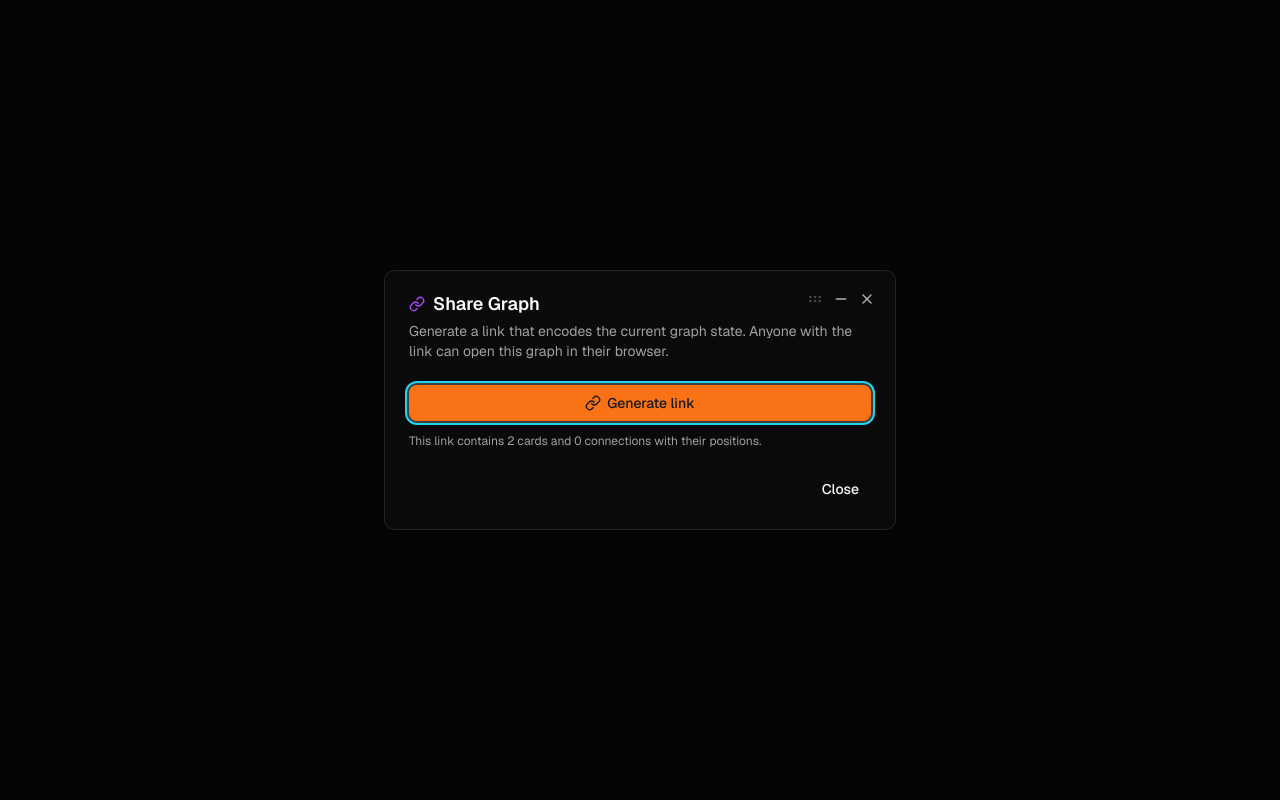
Test: ShareDialog hash URL path › small graph does NOT hit /api/share
The width and height of the screenshot is (1280, 800).
Click the button "Generate link": (640, 403) [409,385,871,421]
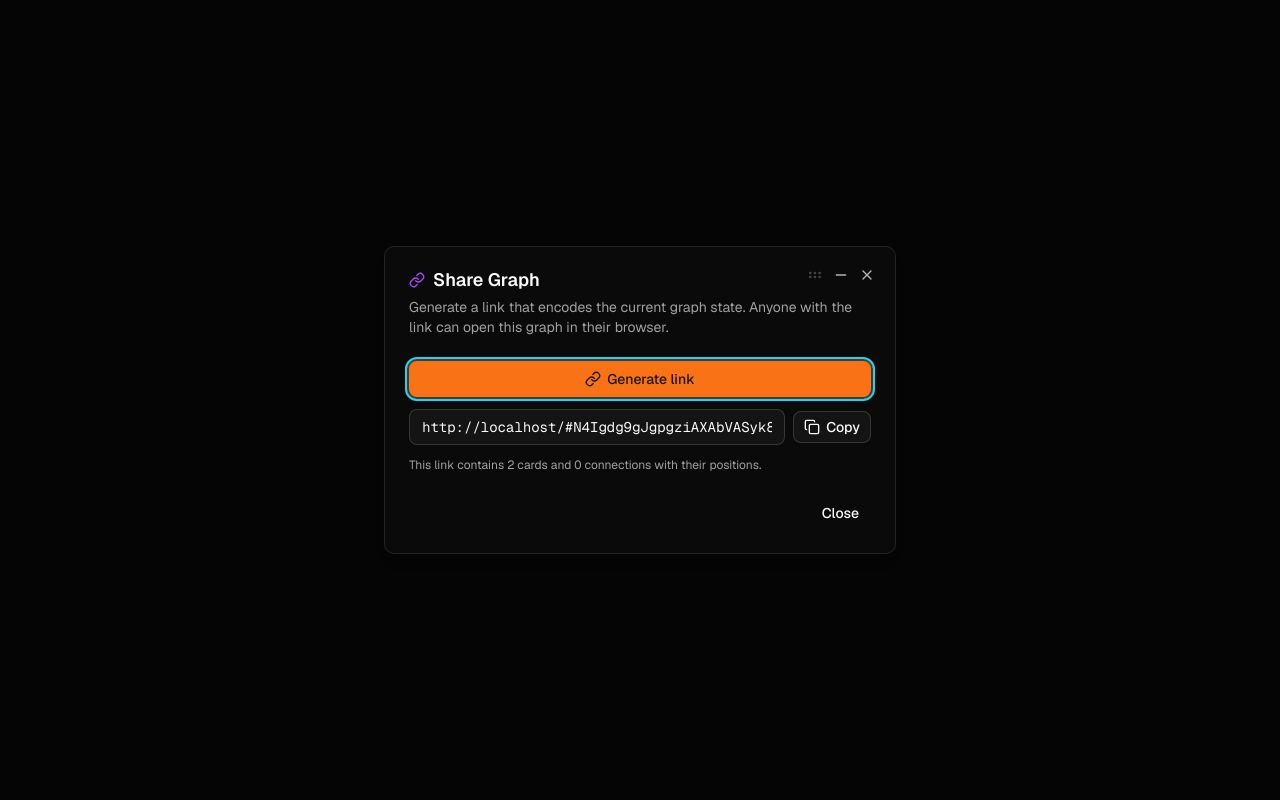
Result: the field is shown at [409,409,785,445]
